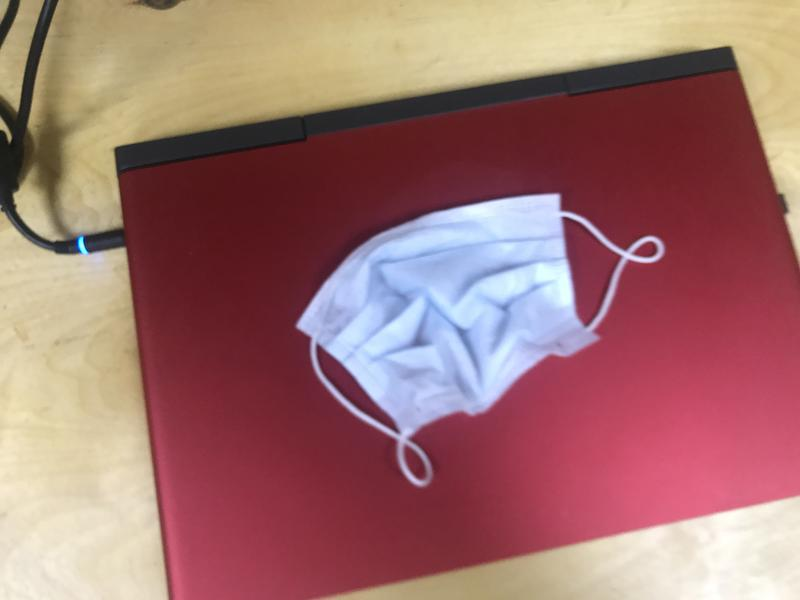medical_mask: (295, 193, 664, 487)
